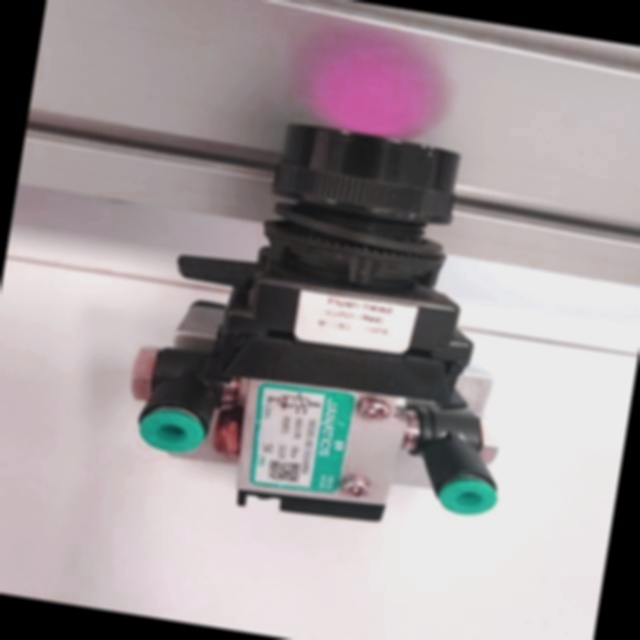push button: (113, 101, 552, 545)
